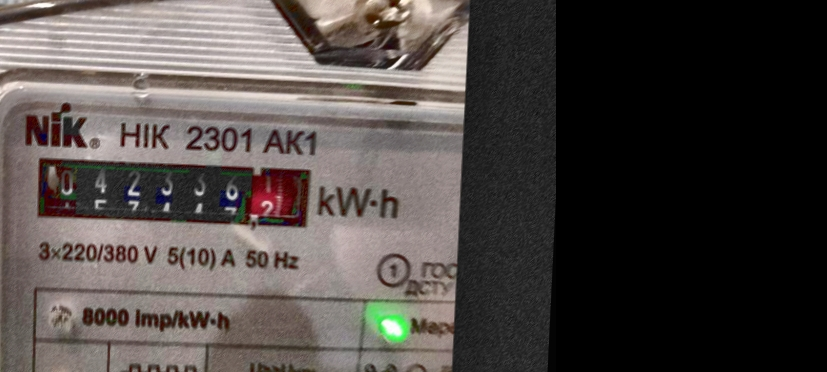0: (56, 168, 74, 196)
1: (260, 171, 273, 194)
2: (124, 167, 142, 197), (257, 197, 273, 216)
3: (188, 167, 206, 198), (156, 167, 173, 196)
4: (90, 164, 109, 194)
6: (222, 171, 241, 201)
screen: (23, 143, 322, 238)
